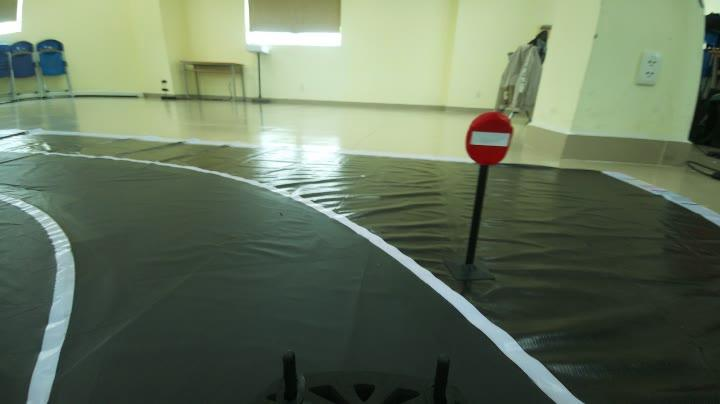no_entry: (461, 109, 512, 168)
